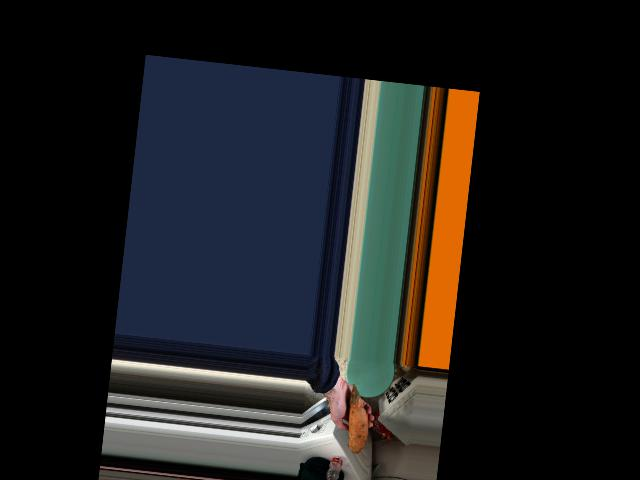sweet_potato: (348, 377, 376, 452)
